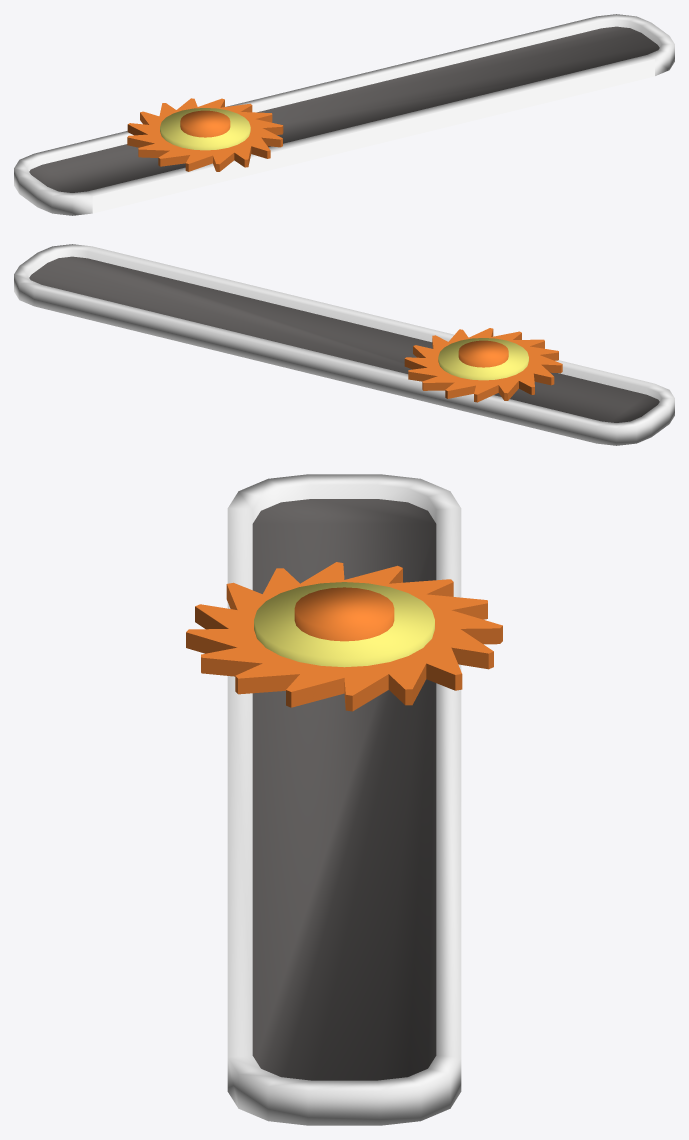
The model's file is Obstacle 3 V3.fbx.
3 views of the same model, one above another, from view 1: azimuth 30°, elevation 25°; view 2: azimuth 150°, elevation 25°; view 3: azimuth 270°, elevation 25° (orthographic). The views are drawn at different scales.
Visible parts, largest first — view 1: O3 Part 2, O3 Part 1; view 2: O3 Part 2, O3 Part 1; view 3: O3 Part 2, O3 Part 1.
Part boxes in pixels (<box>): O3 Part 2: <box>14,14,674,215</box>; O3 Part 1: <box>127,98,283,171</box>; O3 Part 2: <box>14,244,674,445</box>; O3 Part 1: <box>404,328,562,402</box>; O3 Part 2: <box>227,474,461,1125</box>; O3 Part 1: <box>186,562,502,711</box>.
Size of the model in its own units: 281 by 15.5 by 61.04.
Materials: 1 (1 with a texture image).
